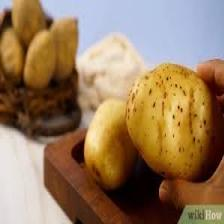Diseased-fungal potato: (122, 54, 222, 187)
Potato: (81, 92, 139, 192)
